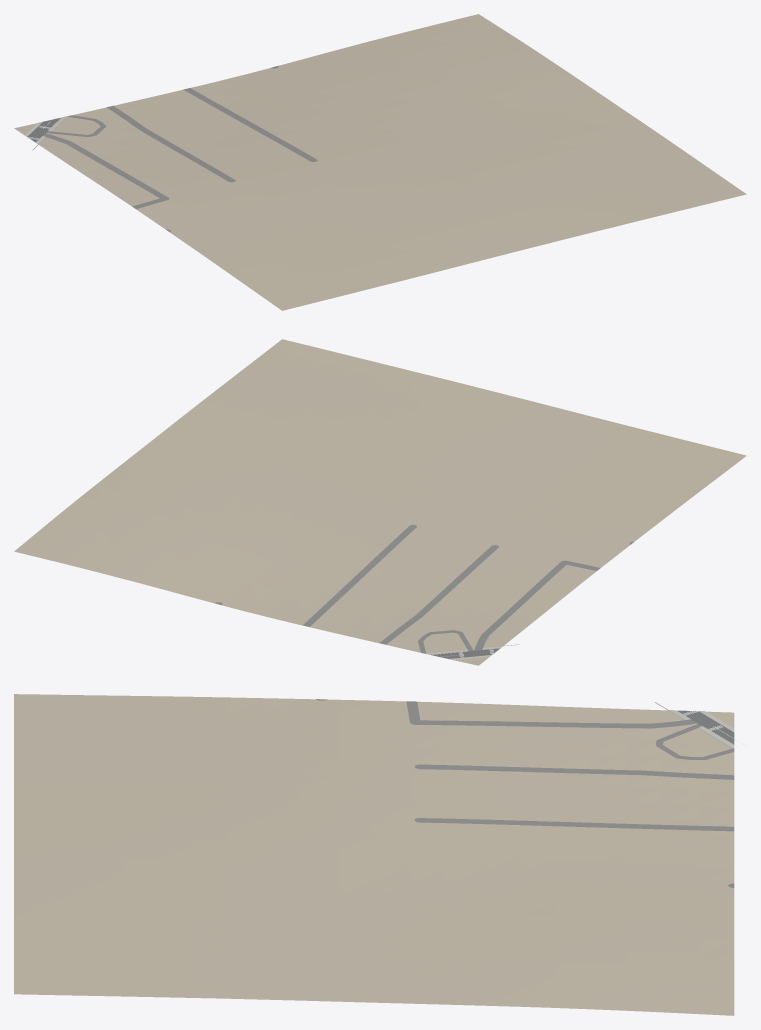
The model's file is bolak_9_-4.glb.
The picture shows the model from 3 angles, top to bottom: view 1: azimuth 30°, elevation 25°; view 2: azimuth 150°, elevation 25°; view 3: azimuth 270°, elevation 25°; orthographic projection. The views are drawn at different scales.
Parts seen in each view (by area): view 1: Yer_Tuproq-col, Yol_Mahalla-col; view 2: Yer_Tuproq-col, Yol_Mahalla-col; view 3: Yer_Tuproq-col, Yol_Mahalla-col, Yol_Asfalt-col.
Boxes of the visible parts, x1,y1,x2,y2 form: Yer_Tuproq-col: [14, 14, 746, 310]; Yol_Mahalla-col: [43, 65, 317, 231]; Yer_Tuproq-col: [14, 339, 746, 665]; Yol_Mahalla-col: [214, 524, 633, 653]; Yer_Tuproq-col: [14, 694, 734, 1015]; Yol_Mahalla-col: [316, 699, 734, 888]; Yol_Asfalt-col: [677, 710, 734, 744].
Size of what is drawn, in the model's own units: 410 by 16.2 by 407.
